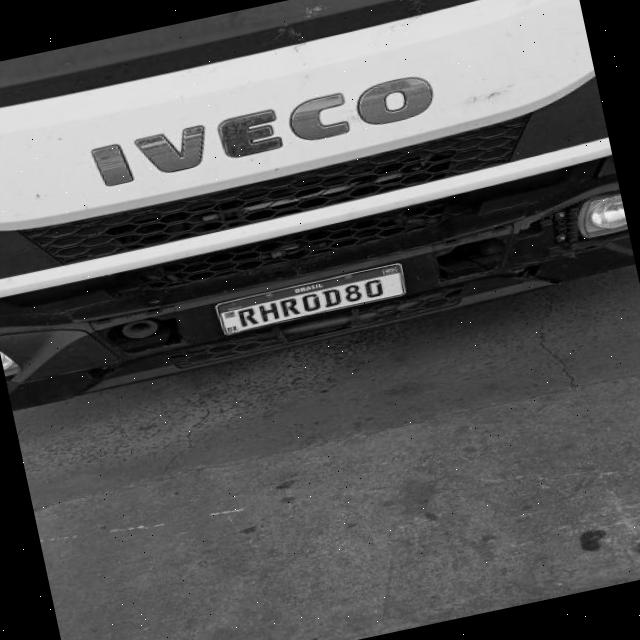placa_mercosul: (216, 263, 404, 335)
